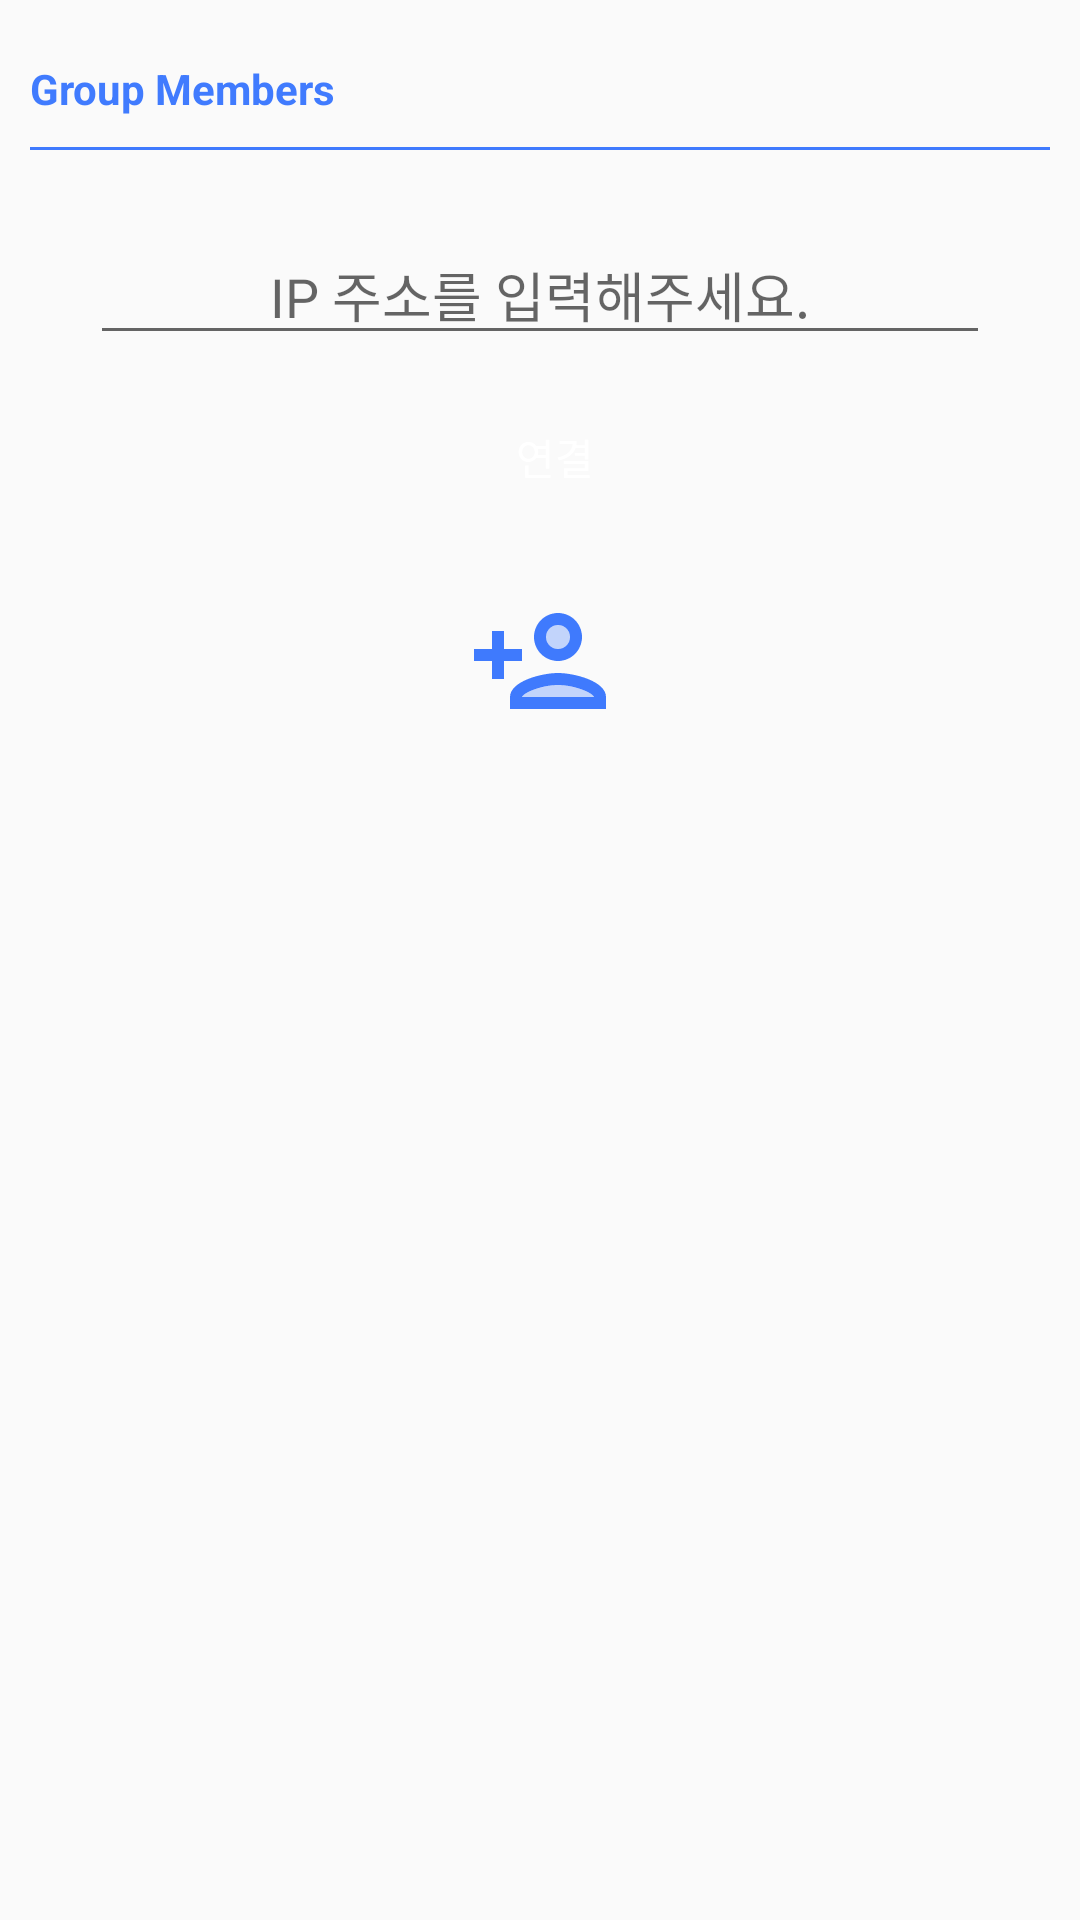

Point at icon controls on the screen. Image size 1080×1920, points as (x=x, y=y).
person add: (x=540, y=661)
